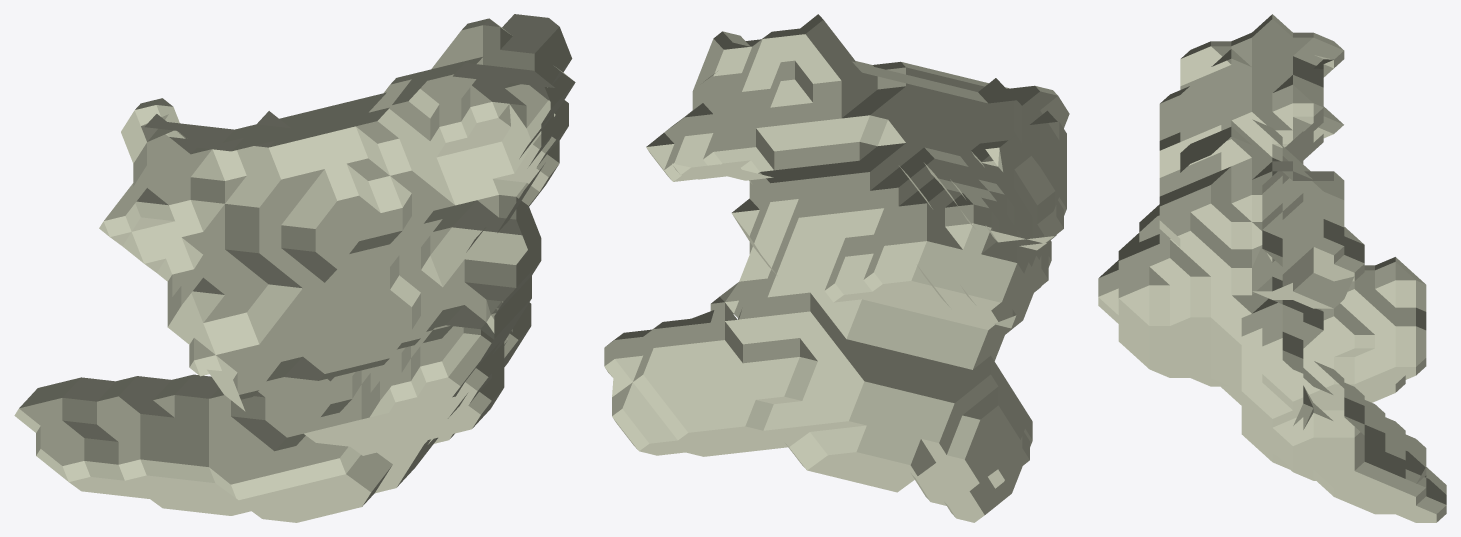
File: region_0008_BSTm__bed_nucleus_of_the_stria_terminalis__medial_division_.glb
3 renders of one model, left to right at view 1: azimuth 30°, elevation 25°; view 2: azimuth 150°, elevation 25°; view 3: azimuth 270°, elevation 25°, orthographic. The views are drawn at different scales.
Parts seen in each view (by area): view 1: world; view 2: world; view 3: world.
Part boxes in pixels (<box>): world: <box>14,14,575,522</box>; world: <box>604,14,1069,522</box>; world: <box>1098,14,1446,522</box>.
Size of the model in its own units: 0.184 by 0.16 by 0.136.
